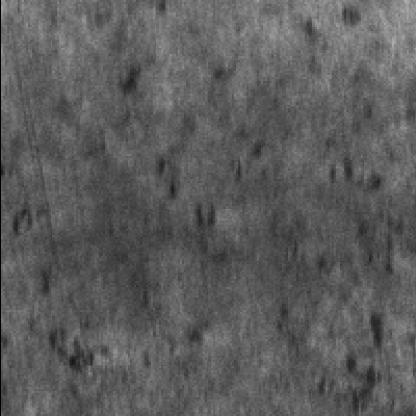rolled-in_scale: (23, 46, 241, 374), (322, 92, 390, 414), (85, 0, 173, 156)
